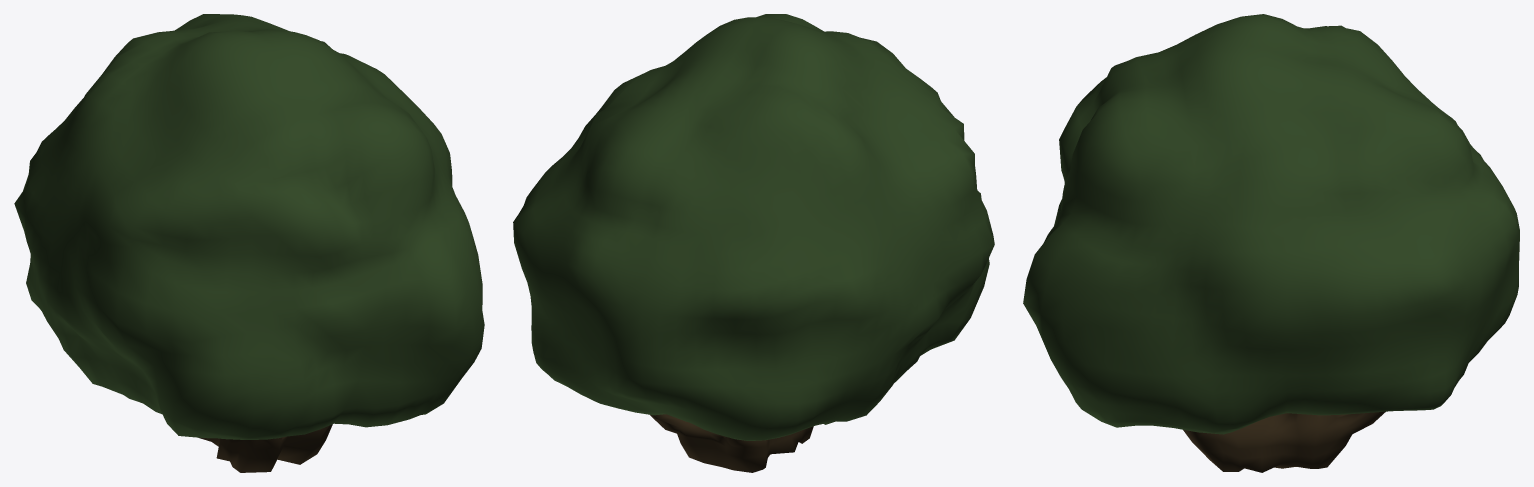
The model's file is pensas01.fbx.
3 views of the same model, side by side, from view 1: azimuth 30°, elevation 25°; view 2: azimuth 150°, elevation 25°; view 3: azimuth 270°, elevation 25° (orthographic). The views are drawn at different scales.
Parts seen in each view (by area): view 1: pensas, oksat; view 2: pensas, oksat; view 3: pensas, oksat.
Part boxes in pixels (x1=…): pensas: x1=14, y1=14, x2=484, y2=439; oksat: x1=198, y1=424, x2=332, y2=472; pensas: x1=513, y1=14, x2=994, y2=440; oksat: x1=650, y1=414, x2=813, y2=472; pensas: x1=1023, y1=14, x2=1519, y2=434; oksat: x1=1183, y1=411, x2=1385, y2=472.
Size of the model in its own units: 400 by 429 by 459.
